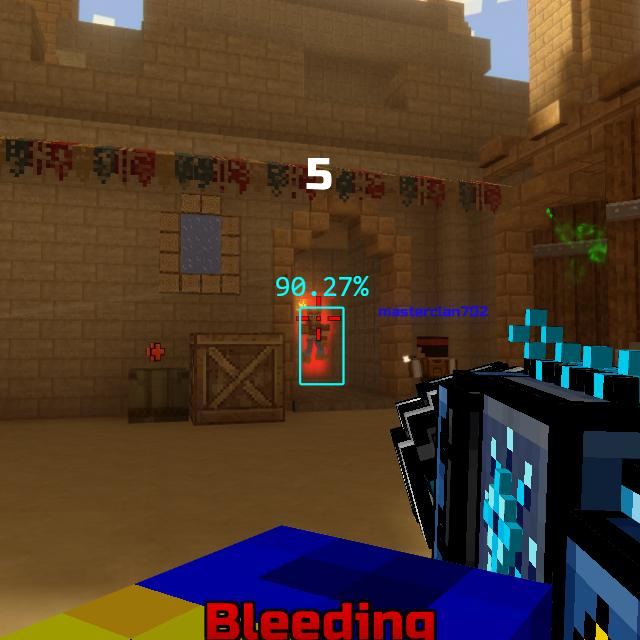Enemy: (301, 311, 330, 364)
